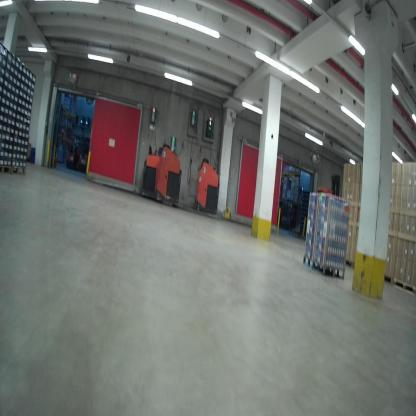pallet: (12, 162, 27, 173), (1, 163, 11, 177)
pallet_truck: (153, 135, 190, 216), (189, 149, 224, 221), (141, 138, 172, 205), (63, 119, 87, 171), (78, 128, 95, 172)
